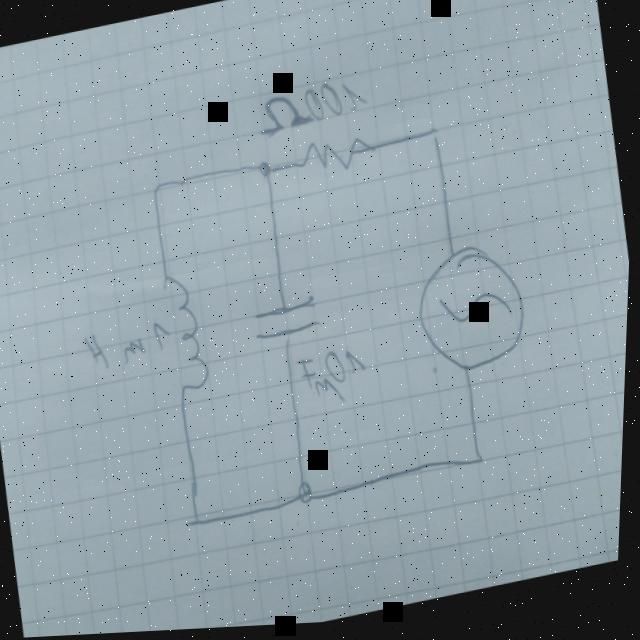capacitor: (250, 296, 325, 349)
inductor: (155, 265, 219, 400)
junction: (468, 449, 497, 483), (293, 480, 322, 512), (252, 157, 279, 187), (424, 120, 448, 152), (188, 509, 211, 538), (146, 175, 167, 202)
resistor: (292, 126, 379, 185)
source: (407, 236, 540, 389)
text: (251, 79, 372, 141), (294, 343, 378, 414), (82, 316, 180, 376)
